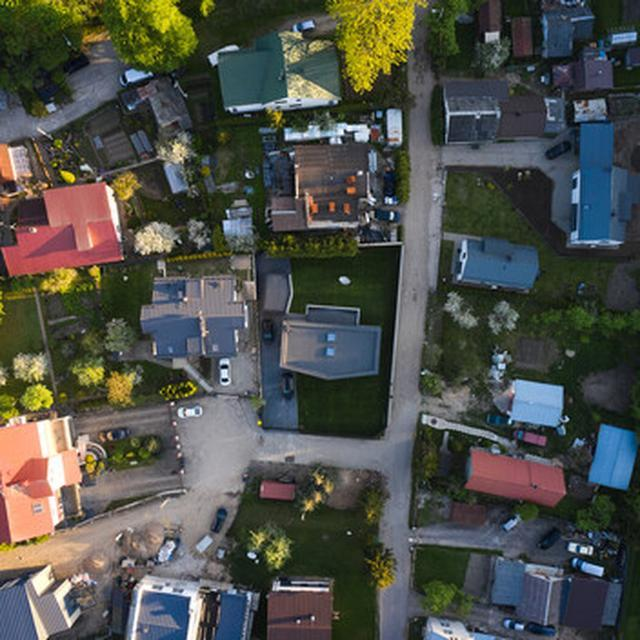building: (259, 280, 409, 390), (255, 136, 399, 233), (8, 178, 132, 281), (0, 404, 90, 534), (211, 32, 351, 108), (569, 119, 640, 268), (124, 560, 256, 640), (498, 549, 626, 630), (144, 274, 253, 361), (438, 54, 549, 139), (472, 451, 578, 526), (0, 565, 94, 637), (455, 231, 547, 297), (271, 573, 331, 640), (506, 372, 569, 431)
